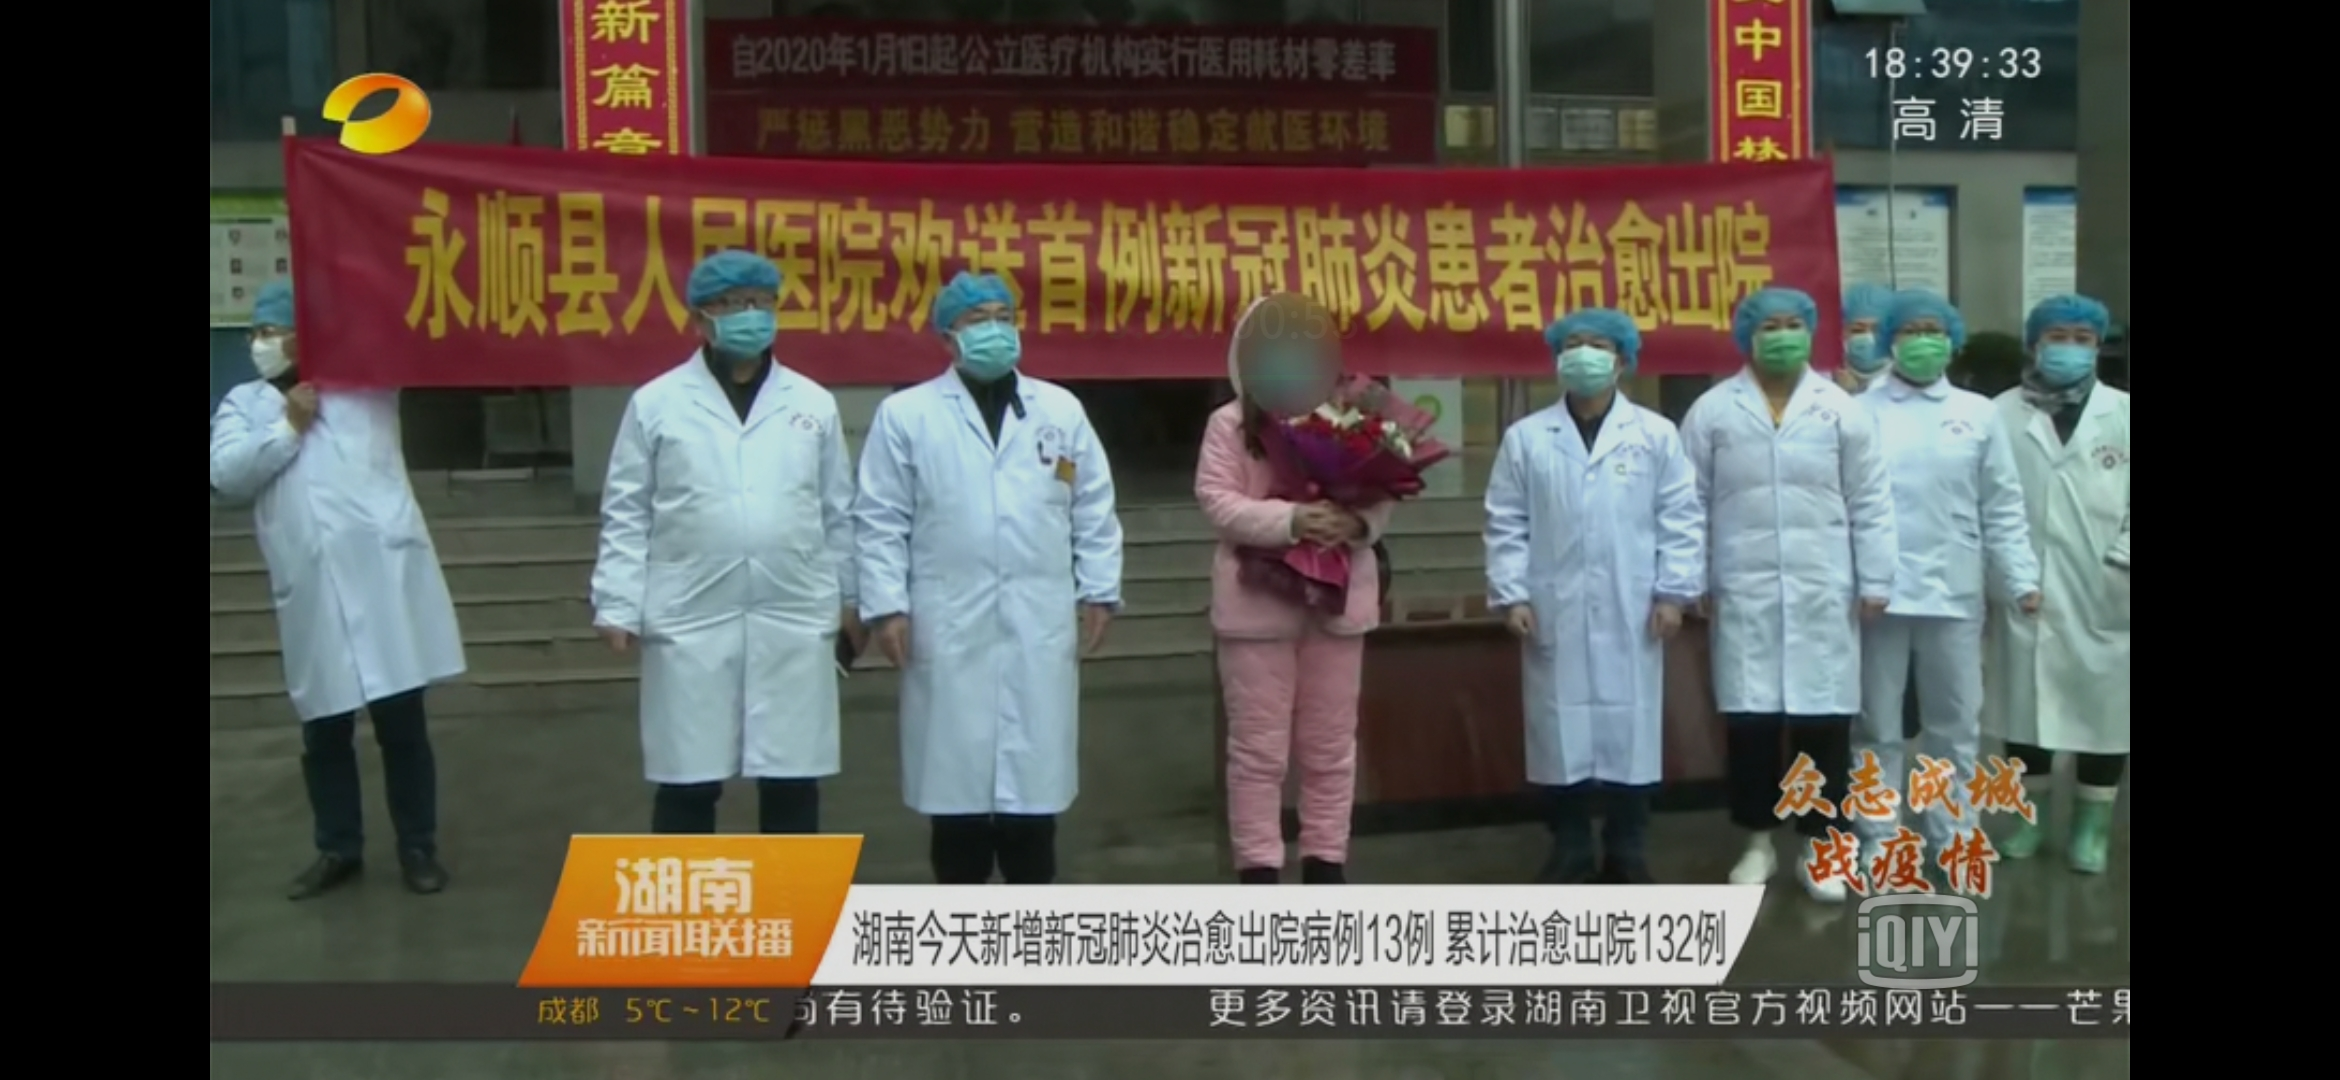correctlyWear: (2021, 307, 2109, 391), (698, 277, 780, 362), (945, 303, 1025, 377), (1886, 301, 1961, 377), (1549, 334, 1627, 406), (1742, 316, 1815, 377), (1839, 307, 1898, 379), (239, 309, 294, 383)
